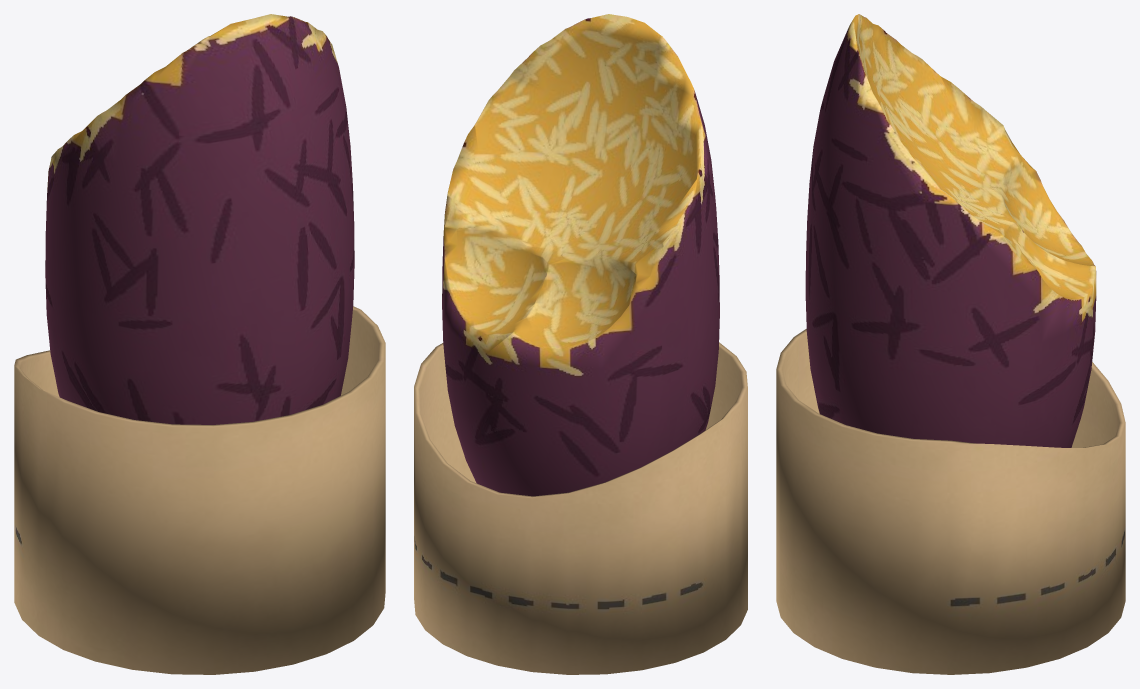
The model's file is yakiimo_b2.glb.
3 views of the same model, side by side, from view 1: azimuth 30°, elevation 25°; view 2: azimuth 150°, elevation 25°; view 3: azimuth 270°, elevation 25° (orthographic). The views are drawn at different scales.
Visible parts, largest first — view 1: prop_yakiimo_b2_felt; view 2: prop_yakiimo_b2_felt; view 3: prop_yakiimo_b2_felt.
Part boxes in pixels (bbox=[...]): prop_yakiimo_b2_felt: bbox=[14, 14, 385, 674]; prop_yakiimo_b2_felt: bbox=[414, 14, 747, 674]; prop_yakiimo_b2_felt: bbox=[776, 14, 1125, 674].
Size of the model in its own units: 0.1065 by 0.1942 by 0.1065.
Materials: 1 (1 with a texture image).
